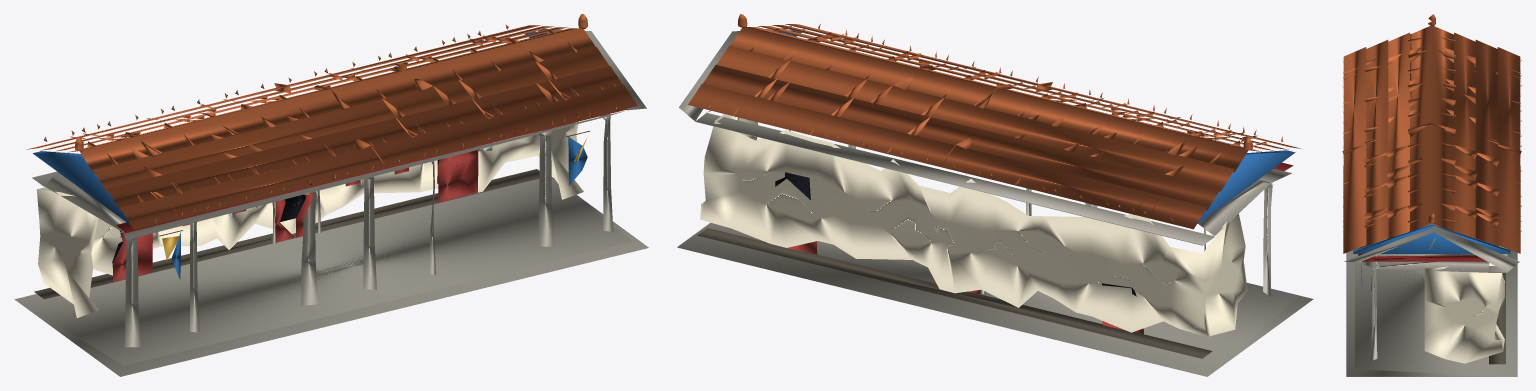
The model's file is civic_stoa.glb.
3 views of the same model, side by side, from view 1: azimuth 30°, elevation 25°; view 2: azimuth 150°, elevation 25°; view 3: azimuth 270°, elevation 25° (orthographic). The views are drawn at different scales.
Parts seen in each view (by area): view 1: step, terracotta0, cream, terracotta1, terracotta2, marble, red_wood, stone_dark, paint_azure, paint_red, cloth_azure, terracotta (+1 smaller); view 2: cream, terracotta0, step, terracotta1, terracotta2, marble, stone_dark, paint_azure, terracotta; view 3: terracotta0, step, terracotta1, terracotta2, cream, marble, paint_azure, paint_red, stone_dark, terracotta.
Part boxes in pixels (bbox=[...]): step: bbox=[14, 177, 648, 376]; terracotta0: bbox=[26, 25, 637, 229]; cream: bbox=[36, 121, 583, 317]; terracotta1: bbox=[40, 26, 622, 214]; terracotta2: bbox=[53, 27, 609, 202]; marble: bbox=[32, 29, 646, 347]; red_wood: bbox=[112, 148, 478, 282]; stone_dark: bbox=[34, 169, 539, 299]; paint_azure: bbox=[33, 31, 547, 224]; paint_red: bbox=[116, 108, 627, 232]; cloth_azure: bbox=[171, 137, 587, 279]; terracotta: bbox=[44, 14, 616, 222]; cream: bbox=[700, 114, 1247, 337]; terracotta0: bbox=[688, 24, 1300, 229]; step: bbox=[677, 222, 1313, 376]; terracotta1: bbox=[703, 25, 1288, 213]; terracotta2: bbox=[716, 26, 1273, 191]; marble: bbox=[679, 28, 1291, 296]; stone_dark: bbox=[697, 228, 1212, 358]; paint_azure: bbox=[779, 30, 1295, 223]; terracotta: bbox=[708, 14, 1283, 220]; terracotta0: bbox=[1343, 25, 1520, 253]; step: bbox=[1346, 223, 1517, 376]; terracotta1: bbox=[1342, 34, 1521, 246]; terracotta2: bbox=[1343, 32, 1520, 239]; cream: bbox=[1424, 263, 1504, 363]; marble: bbox=[1344, 225, 1519, 360]; paint_azure: bbox=[1353, 224, 1510, 253]; paint_red: bbox=[1358, 246, 1486, 261]; stone_dark: bbox=[1489, 273, 1505, 364]; terracotta: bbox=[1343, 14, 1521, 243].
Size of the model in its own units: 16.88 by 6.02 by 6.16.
